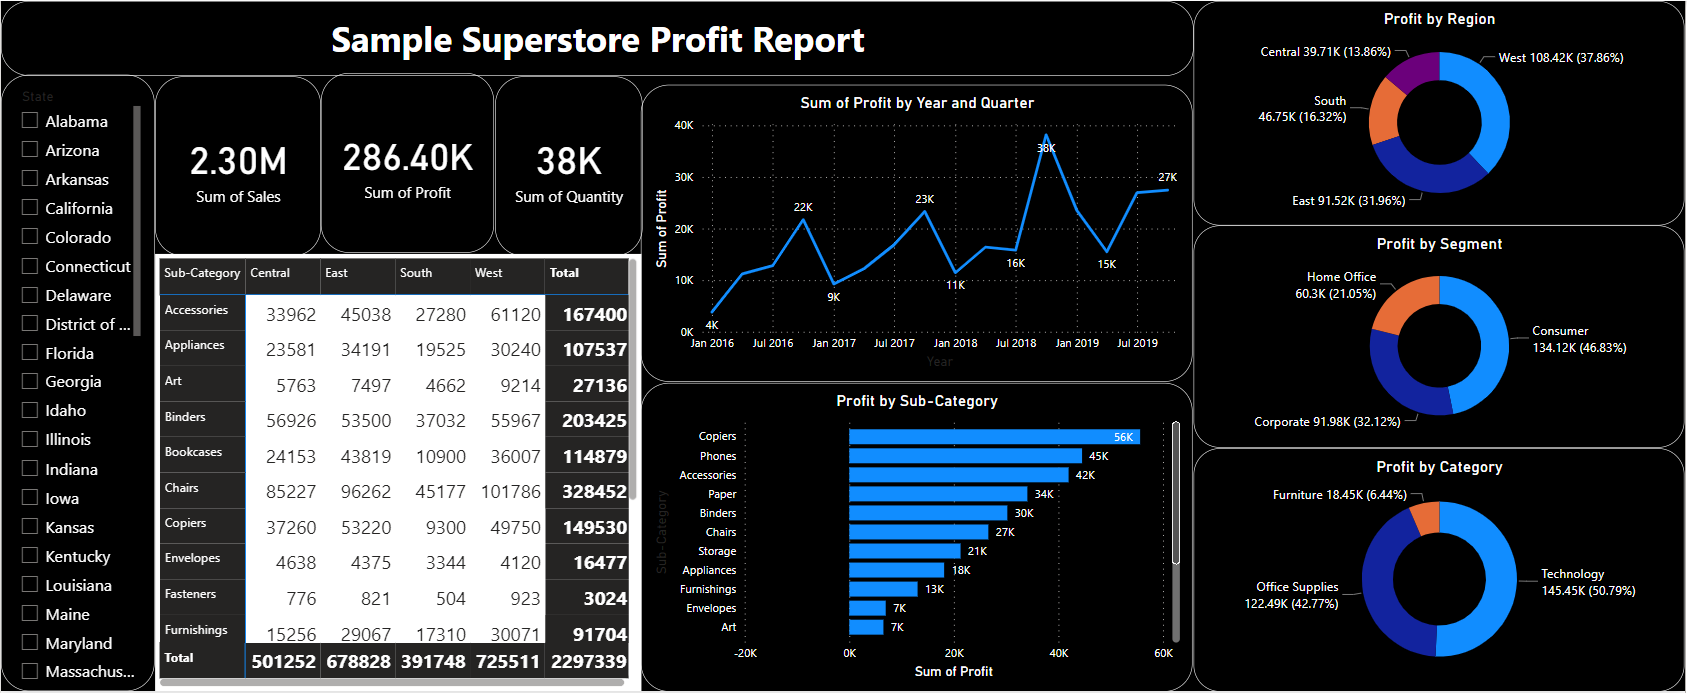

The dashboard page shown, as its layout file describes it:
{"tool":"powerbi","page":{"name":"Final Report","canvas":[1800,738],"ordinal":14},"visuals":[{"type":"textbox","box":[0,0,1275,80],"z":0},{"type":"donutChart","title":"Profit by Category","fields":{"Category":["Orders.Category"],"Y":["Sum(Orders.Profit)"]},"box":[1275,477.5,525,260],"z":1000},{"type":"donutChart","title":"Profit by Segment","fields":{"Y":["Sum(Orders.Profit)"],"Category":["Orders.Segment"]},"box":[1275,240,525,237.5],"z":2000},{"type":"donutChart","title":"Profit by Region","fields":{"Y":["Sum(Orders.Profit)"],"Category":["Orders.Region"]},"box":[1275,0,525,240],"z":3000},{"type":"barChart","title":" Profit by Sub-Category","fields":{"Category":["Orders (2).Sub-Category"],"Y":["Sum(Orders (2).Profit)"]},"box":[685,407.5,590,330],"z":4000},{"type":"lineChart","fields":{"Category":["Orders.Order Date.Variation.Date Hierarchy.Year","Orders.Order Date.Variation.Date Hierarchy.Quarter","Orders.Order Date.Variation.Date Hierarchy.Month","Orders.Order Date.Variation.Date Hierarchy.Day"],"Y":["Sum(Orders.Profit)"]},"box":[685,90,590,317.5],"z":5000},{"type":"slicer","fields":{"Values":["Orders.State"]},"box":[0,78.3,164.1,658.8],"z":6000},{"type":"card","fields":{"Values":["Sum(Orders.Sales)"]},"box":[165,80,177.5,192.5],"z":7000},{"type":"card","fields":{"Values":["Sum(Orders.Profit)"]},"box":[342.5,77.5,185,192.5],"z":8000},{"type":"card","fields":{"Values":["Sum(Orders.Quantity)"]},"box":[527.5,80,157.5,192.5],"z":9000},{"type":"pivotTable","fields":{"Rows":["Orders.Sub-Category"],"Columns":["Orders.Region"],"Values":["Sum(Orders.Sales)"]},"box":[165,270,520,467.5],"z":10000}]}

Visuals, with their boxes in screenshot pixels (x1, y1, x2, y2), scaled from the page's 1800x738 canvas onto the 1687x693 screenshot:
textbox: [0,0,1195,75]
"Profit by Category" donutChart: [1195,448,1686,692]
"Profit by Segment" donutChart: [1195,225,1686,448]
"Profit by Region" donutChart: [1195,0,1686,225]
" Profit by Sub-Category" barChart: [642,383,1195,692]
lineChart - Orders.Order Date.Variation.Date Hierarchy.Year x Orders.Order Date.Variation.Date Hierarchy.Quarter: [642,85,1195,383]
slicer - Orders.State: [0,74,154,692]
card - Sum(Orders.Sales): [155,75,321,256]
card - Sum(Orders.Profit): [321,73,494,254]
card - Sum(Orders.Quantity): [494,75,642,256]
pivotTable - Orders.Sub-Category x Orders.Region: [155,254,642,692]
